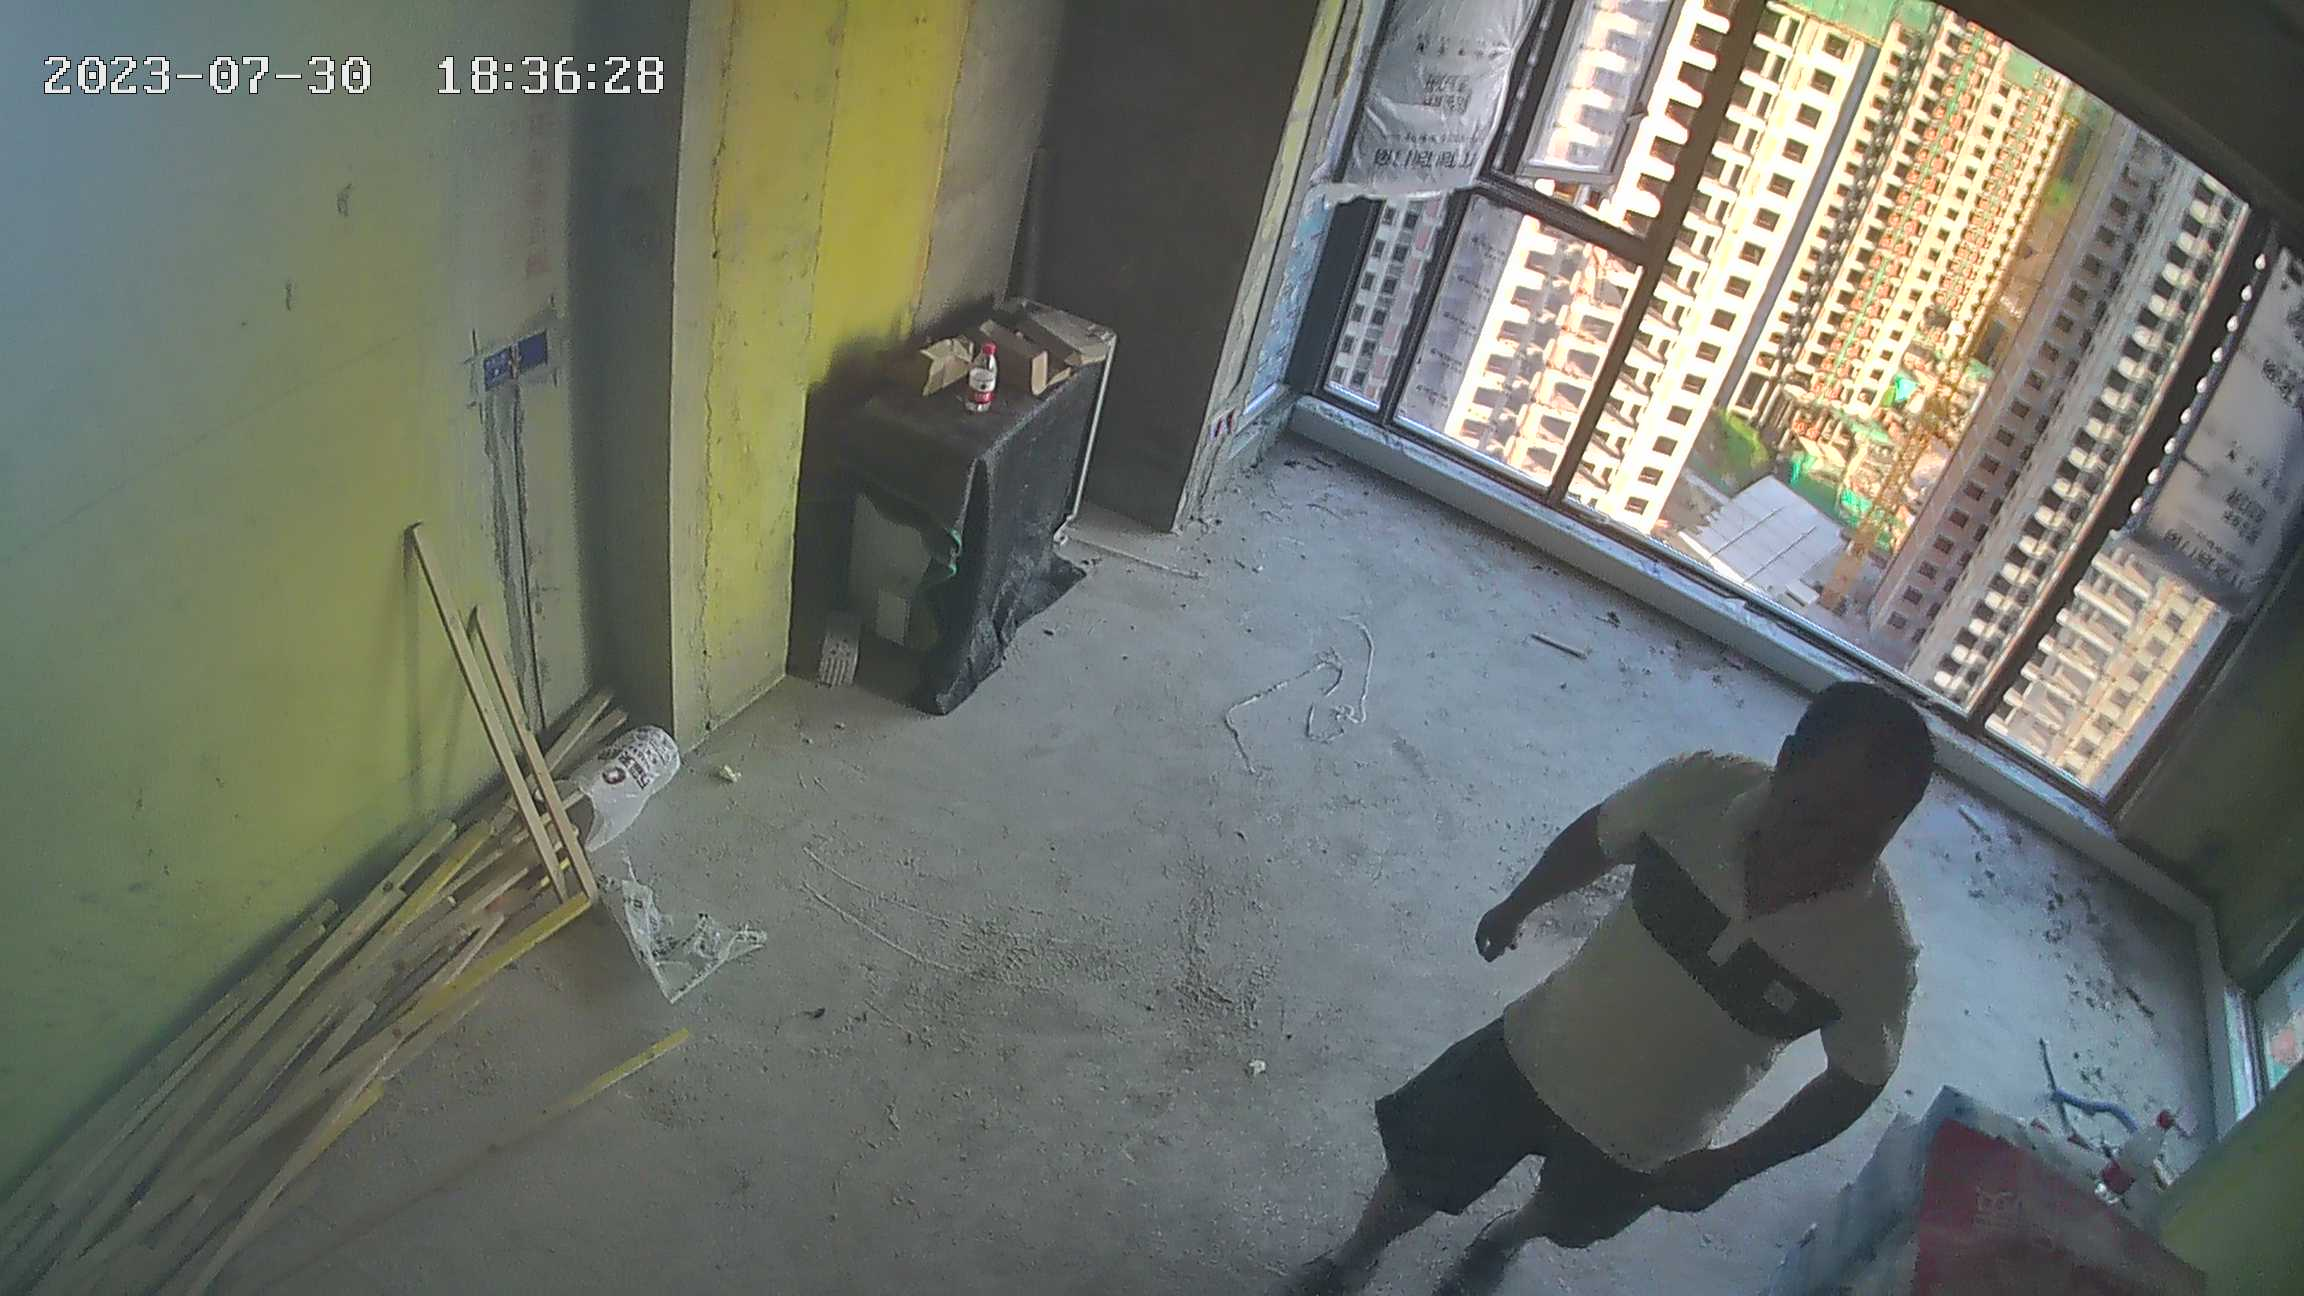people: (1281, 674, 1952, 1294)
window: (1291, 39, 2290, 666)
